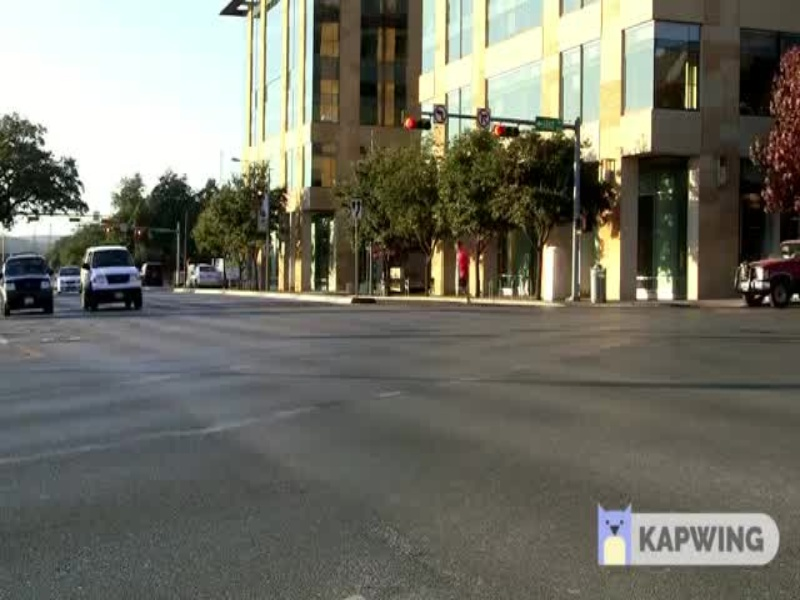car: (77, 242, 147, 314), (1, 243, 62, 316)
